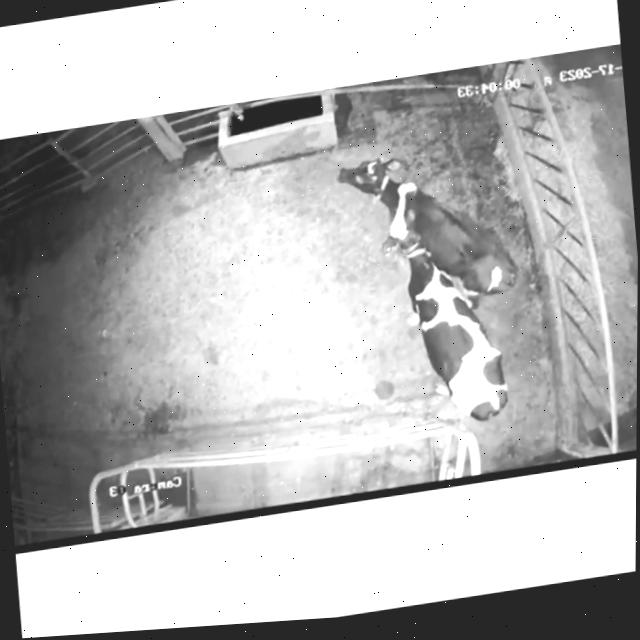propping: (365, 168, 449, 276)
